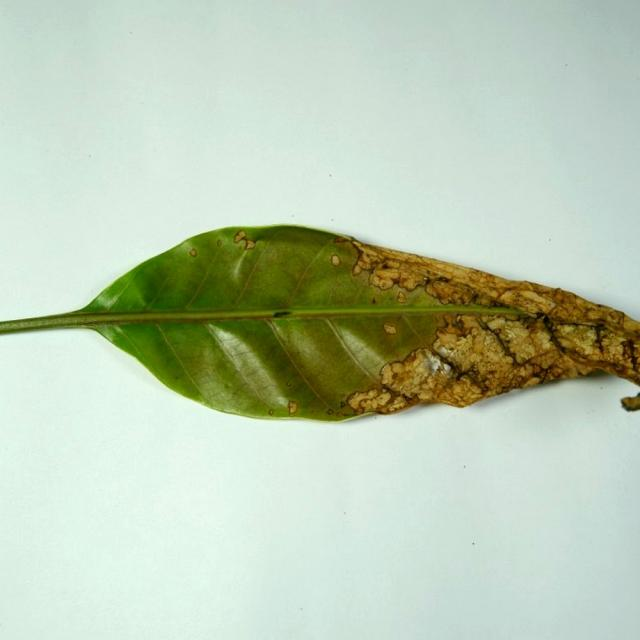Anthracnose: (421, 321, 546, 401), (436, 267, 550, 308), (487, 317, 550, 366), (385, 351, 442, 395), (455, 327, 508, 372), (450, 324, 495, 358), (556, 324, 602, 357), (495, 288, 551, 312), (522, 347, 566, 377), (427, 281, 473, 305), (598, 330, 632, 361), (441, 378, 481, 403), (448, 333, 479, 362), (529, 328, 556, 354), (503, 324, 531, 347), (436, 314, 462, 336), (380, 360, 403, 384), (479, 343, 502, 367), (355, 249, 381, 270), (579, 304, 610, 321), (378, 382, 405, 401), (346, 392, 371, 411), (487, 316, 513, 333), (399, 272, 423, 290), (556, 323, 582, 339), (385, 394, 408, 412), (458, 315, 482, 332), (329, 402, 356, 416), (522, 290, 548, 304), (556, 336, 581, 350), (436, 333, 459, 348), (623, 338, 637, 362), (286, 397, 302, 415), (374, 277, 394, 291), (605, 311, 625, 325), (380, 268, 401, 281), (374, 391, 392, 406), (459, 372, 479, 385), (459, 288, 475, 304), (233, 231, 249, 246), (522, 376, 542, 388), (622, 318, 639, 332), (425, 283, 439, 298), (417, 389, 434, 401), (516, 351, 531, 364), (390, 362, 404, 375), (383, 323, 398, 335), (531, 363, 544, 375), (287, 400, 298, 414), (550, 366, 564, 377), (586, 345, 600, 356), (401, 393, 415, 404), (396, 290, 407, 303), (330, 254, 341, 266), (442, 315, 453, 325), (333, 236, 348, 243), (244, 241, 255, 250), (353, 264, 362, 275), (455, 315, 463, 325), (189, 248, 198, 256), (336, 411, 348, 417), (340, 401, 347, 408), (326, 409, 333, 415), (371, 297, 377, 304), (422, 277, 429, 283), (237, 243, 243, 249), (217, 239, 222, 245), (268, 409, 274, 414), (286, 382, 292, 387), (174, 375, 180, 380), (310, 409, 315, 413)
Mango: (0, 226, 639, 424)
